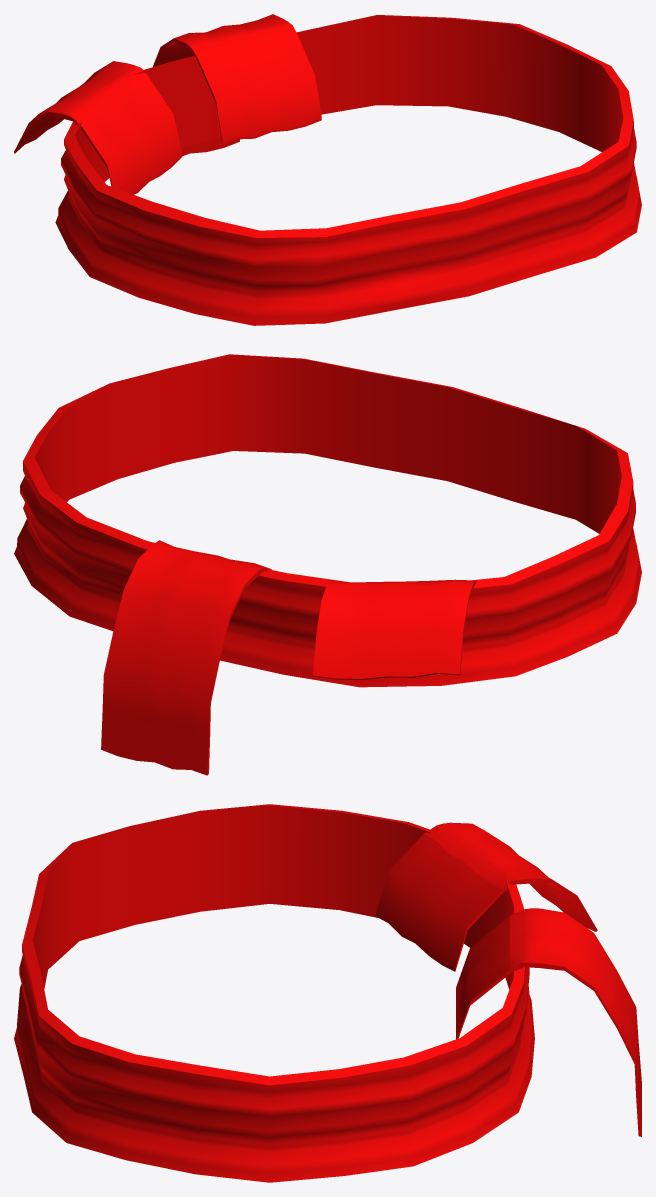
File: Bandana.fbx
The picture shows the model from 3 angles, top to bottom: view 1: azimuth 30°, elevation 25°; view 2: azimuth 150°, elevation 25°; view 3: azimuth 270°, elevation 25°; orthographic projection. The views are drawn at different scales.
Visible parts, largest first — view 1: Cylinder002; view 2: Cylinder002; view 3: Cylinder002.
Boxes of the visible parts, x1,y1,x2,y2 form: Cylinder002: (14, 14, 641, 325); Cylinder002: (14, 354, 641, 775); Cylinder002: (14, 804, 641, 1182).
Bounding box in the file's own units: 11.03 × 3.2 × 10.16.
